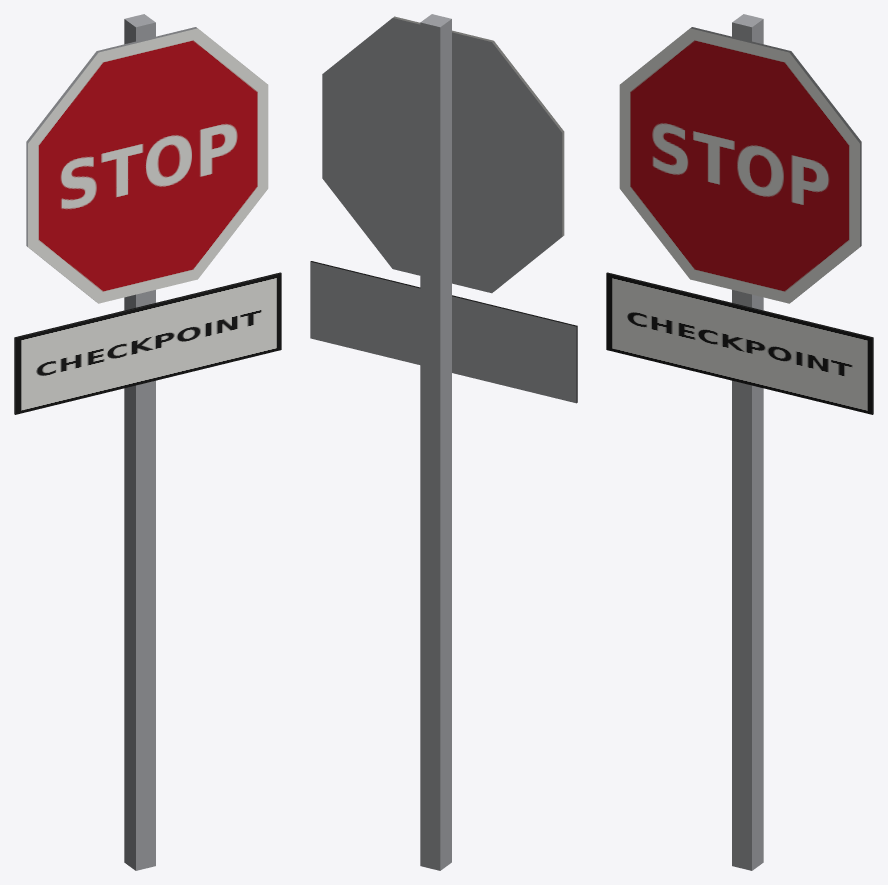
The model's file is sign_cp.dae.
The picture shows the model from 3 angles, left to right: view 1: azimuth 30°, elevation 25°; view 2: azimuth 150°, elevation 25°; view 3: azimuth 330°, elevation 25°; orthographic projection.
Parts seen in each view (by area): view 1: marker; view 2: marker; view 3: marker.
Part boxes in pixels (x1=…): marker: x1=14, y1=14, x2=281, y2=870; marker: x1=310, y1=14, x2=577, y2=870; marker: x1=606, y1=14, x2=873, y2=870.
Bounding box in the file's own units: 0.8 × 0.074 × 2.42.
1 material, 1 textured.
